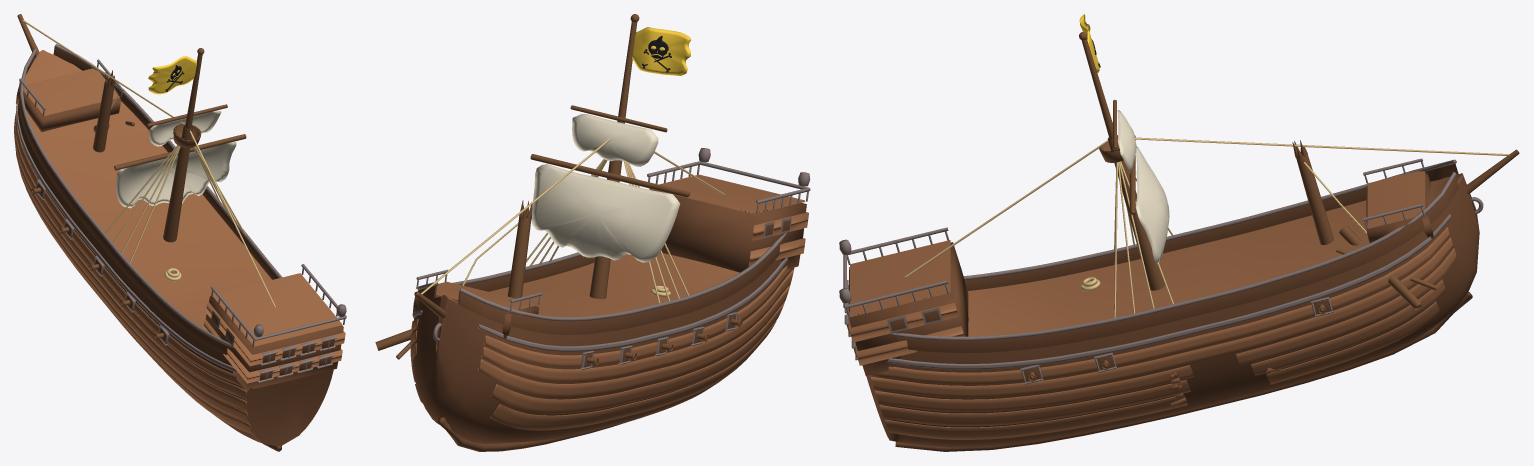
Rendered from SharkBaitShipwreck.obj.
3 renders of one model, left to right at view 1: azimuth 30°, elevation 25°; view 2: azimuth 150°, elevation 25°; view 3: azimuth 270°, elevation 25°, orthographic. The views are drawn at different scales.
Visible parts, largest first — view 1: Planks, Hull, Trim, Sail, Mast, Rope, Flag; view 2: Planks, Hull, Sail, Trim, Mast, Rope, Flag; view 3: Planks, Hull, Trim, Mast, Rope, Sail.
Boxes of the visible parts, bbox=[...] form: Planks: bbox=[14, 50, 345, 434]; Hull: bbox=[16, 46, 343, 451]; Trim: bbox=[16, 44, 346, 382]; Sail: bbox=[116, 110, 236, 208]; Mast: bbox=[17, 14, 246, 339]; Rope: bbox=[22, 20, 275, 306]; Flag: bbox=[148, 56, 197, 94]; Planks: bbox=[410, 174, 808, 430]; Hull: bbox=[412, 189, 806, 451]; Sail: bbox=[531, 114, 680, 262]; Trim: bbox=[413, 148, 810, 369]; Mast: bbox=[375, 14, 742, 365]; Rope: bbox=[421, 138, 724, 303]; Flag: bbox=[632, 27, 691, 75]; Planks: bbox=[849, 171, 1462, 439]; Hull: bbox=[846, 163, 1479, 451]; Trim: bbox=[839, 158, 1483, 384]; Mast: bbox=[1027, 32, 1519, 381]; Rope: bbox=[904, 137, 1509, 317]; Sail: bbox=[1117, 110, 1169, 264].
Bounding box in the file's own units: 14.96 × 34 × 49.94.
